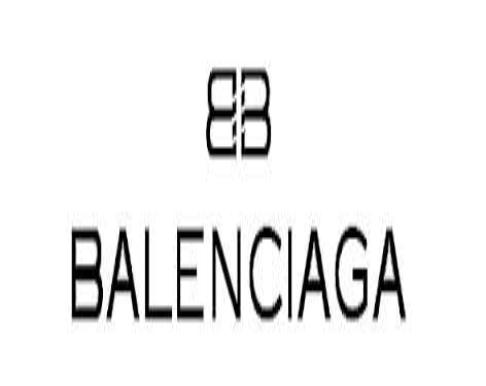BALENCIAGA: (67, 215, 408, 329), (203, 52, 274, 166)
